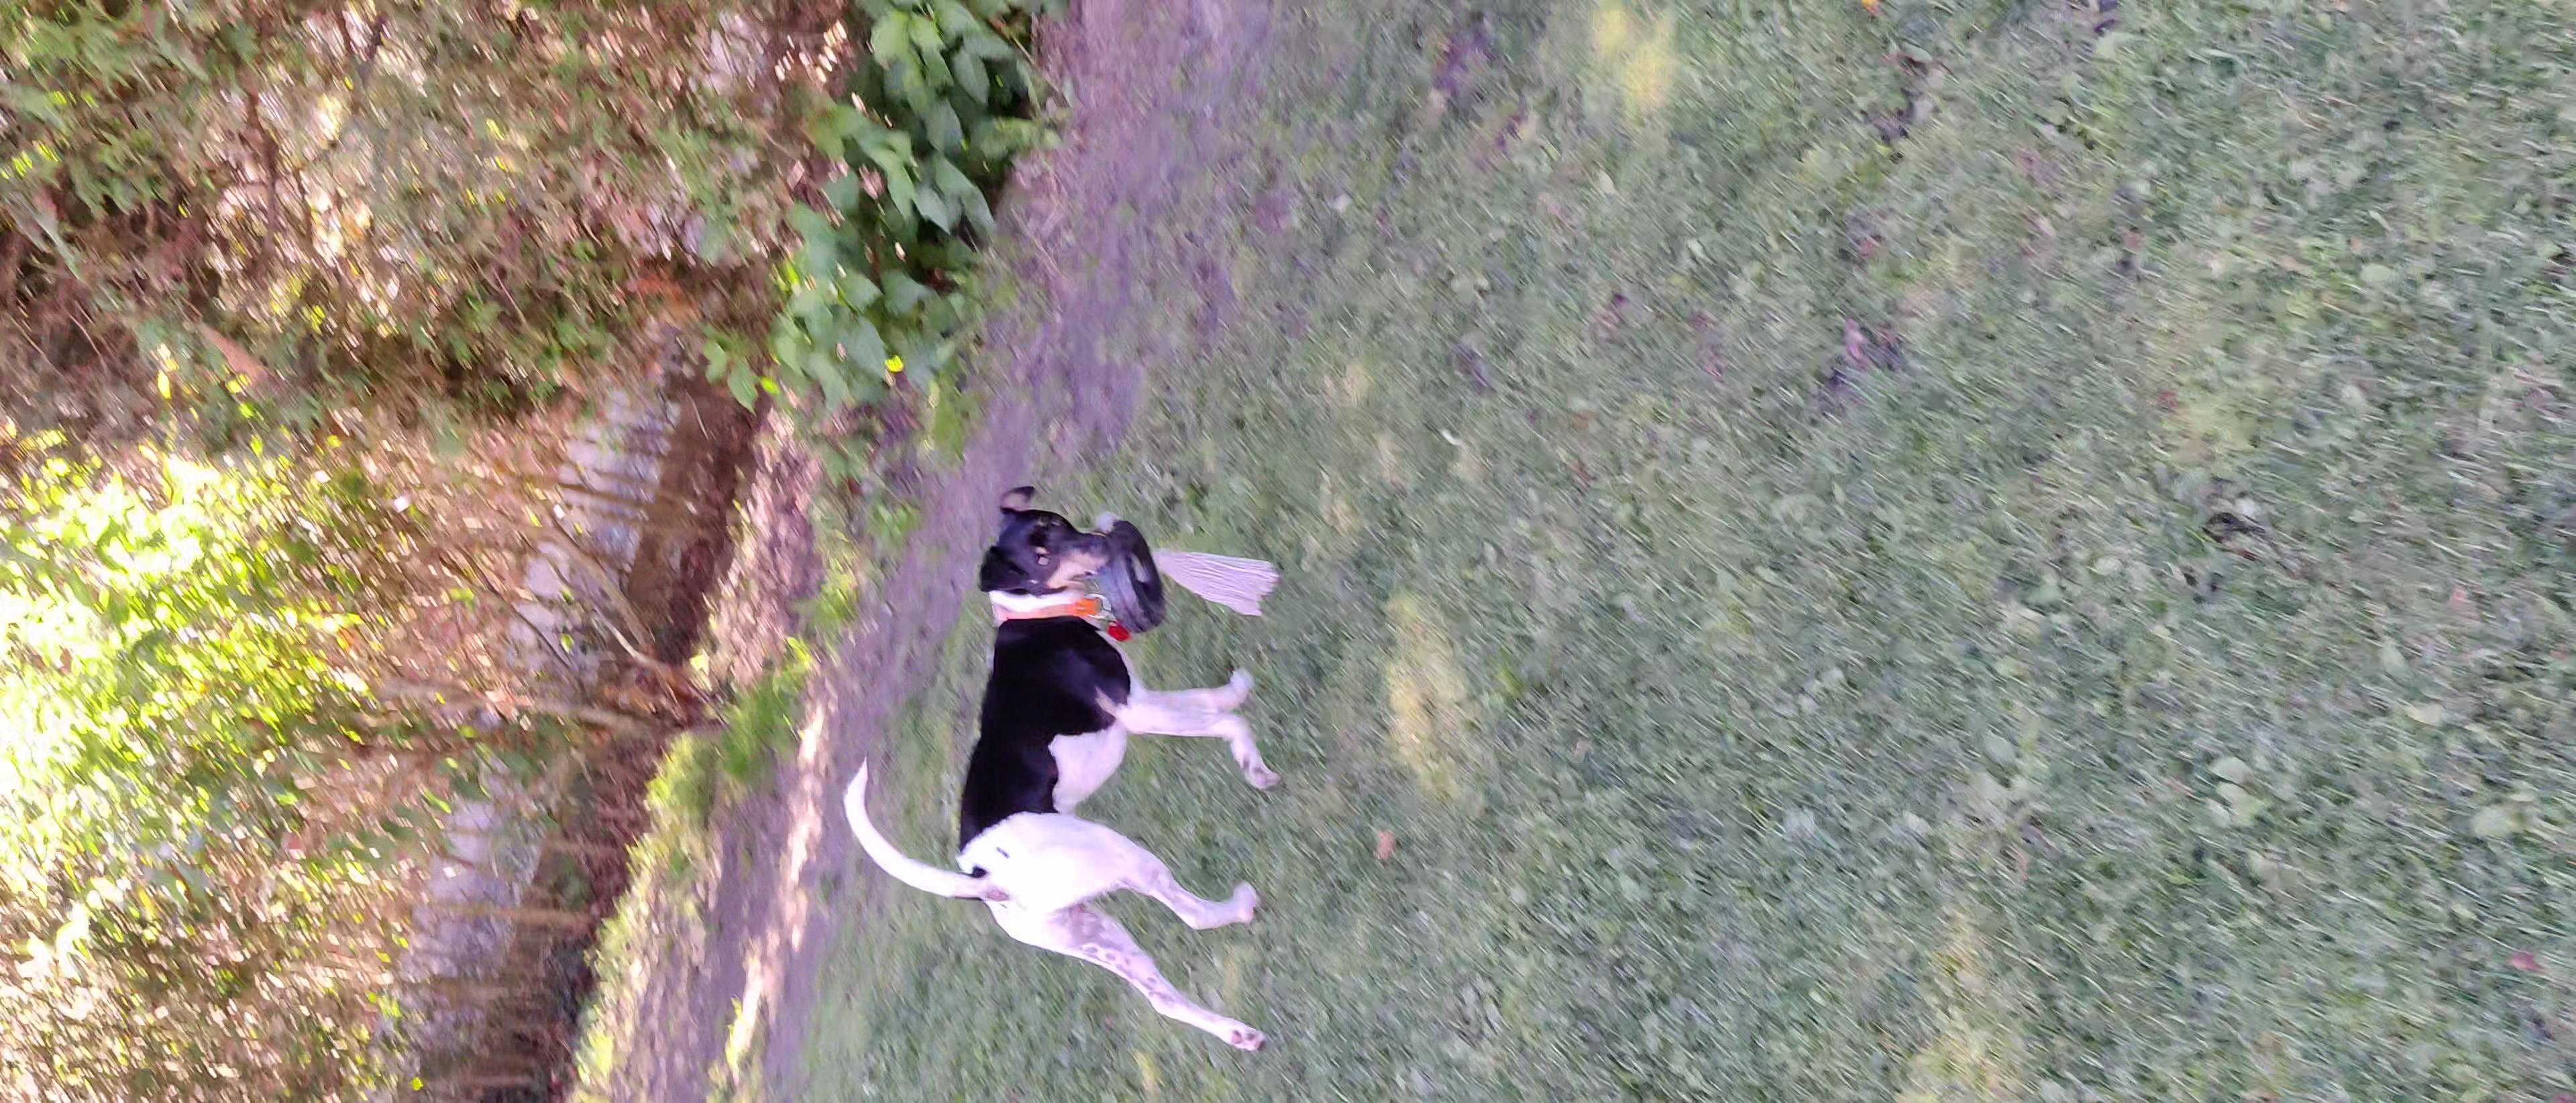Dog: (839, 468, 1313, 1055)
